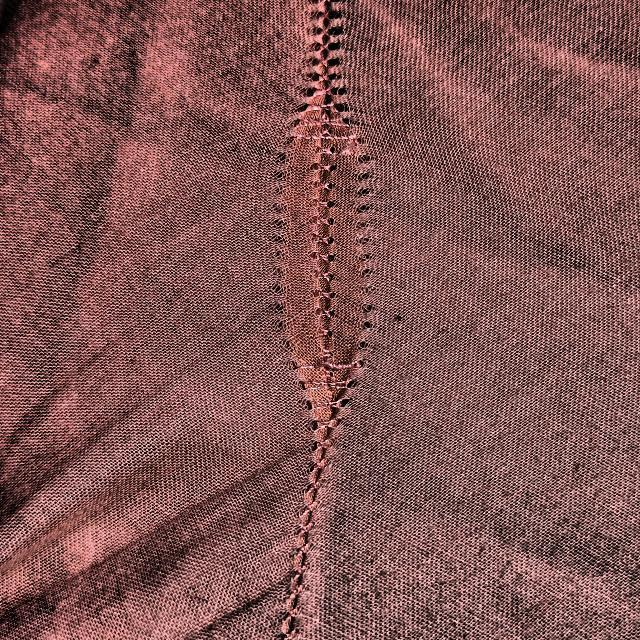gray stitch: (250, 85, 425, 427)
